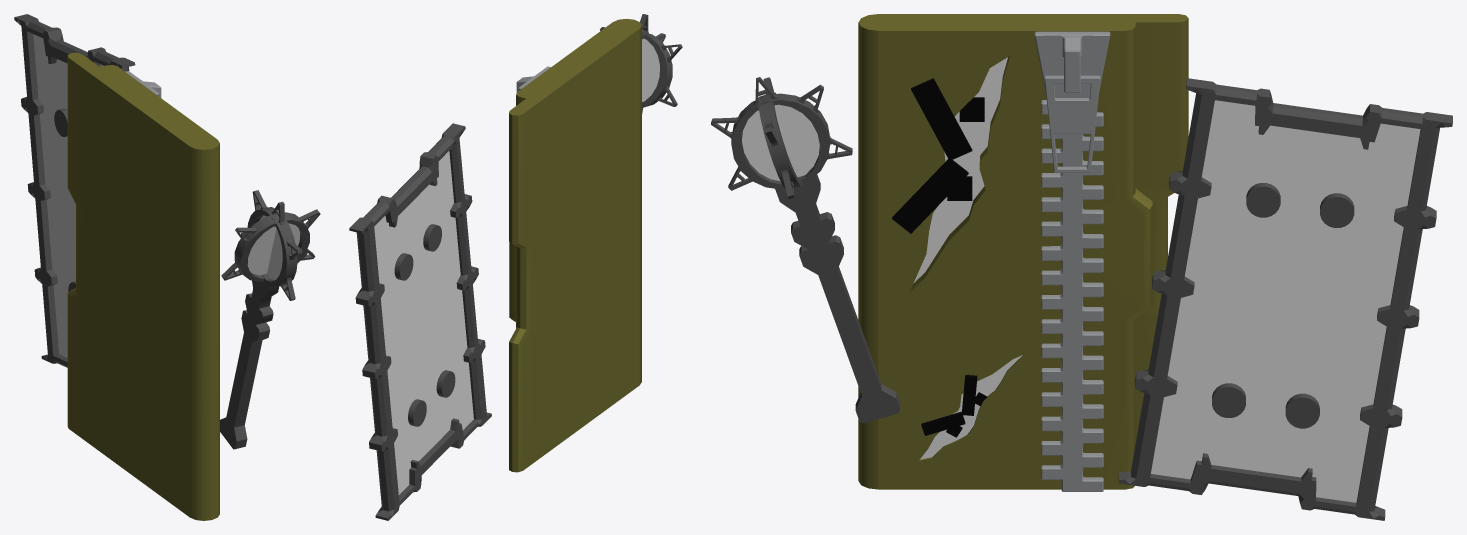
File: Zip_Troop (2).fbx
3 views of the same model, side by side, from view 1: azimuth 30°, elevation 25°; view 2: azimuth 150°, elevation 25°; view 3: azimuth 270°, elevation 25° (orthographic). The views are drawn at different scales.
Visible parts, largest first — view 1: Zip_Troop_; view 2: Zip_Troop_; view 3: Zip_Troop_.
Boxes of the visible parts, bbox=[...] form: Zip_Troop_: bbox=[14, 14, 320, 520]; Zip_Troop_: bbox=[349, 14, 682, 520]; Zip_Troop_: bbox=[711, 14, 1452, 520].
Bounding box in the file's own units: 0.4761 × 1.87 × 2.7.
